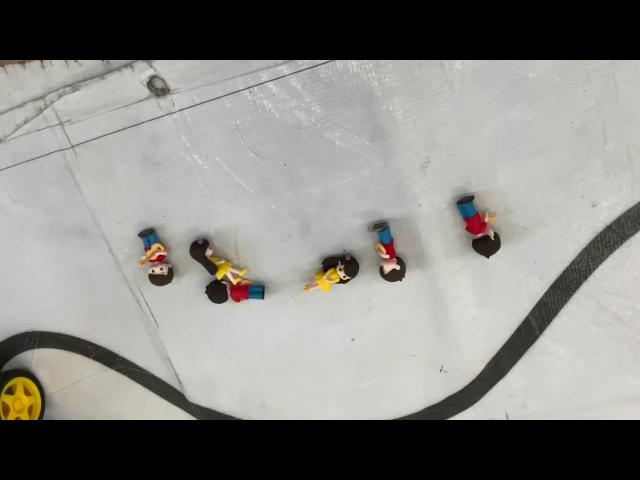man: (448, 193, 506, 261), (367, 219, 411, 284), (137, 226, 177, 288), (204, 281, 268, 306)
woman: (298, 250, 362, 298), (188, 239, 248, 285)
